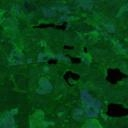alloviz: (104, 66, 128, 86), (105, 102, 128, 119), (32, 21, 68, 31), (62, 69, 81, 87), (64, 53, 81, 64), (62, 43, 74, 51), (47, 57, 58, 65), (81, 46, 89, 54)
